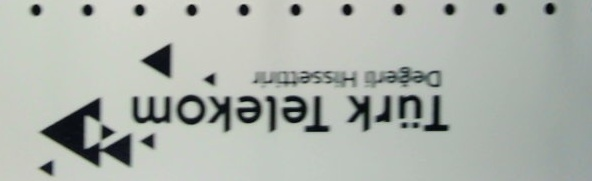AQ_TURKTelekom: (23, 42, 457, 178)
